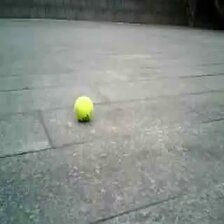tennis: (74, 95, 93, 120)
